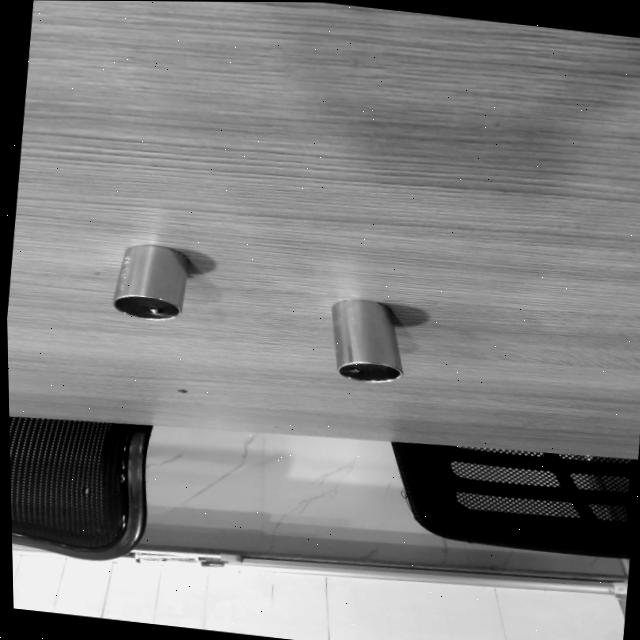Co_Lon: (328, 293, 402, 386)
Co_Nho: (110, 239, 190, 322)
